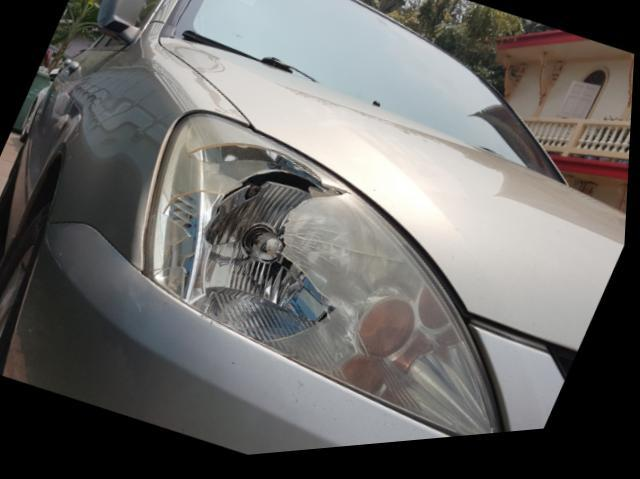lamp broken: (146, 117, 513, 446)
